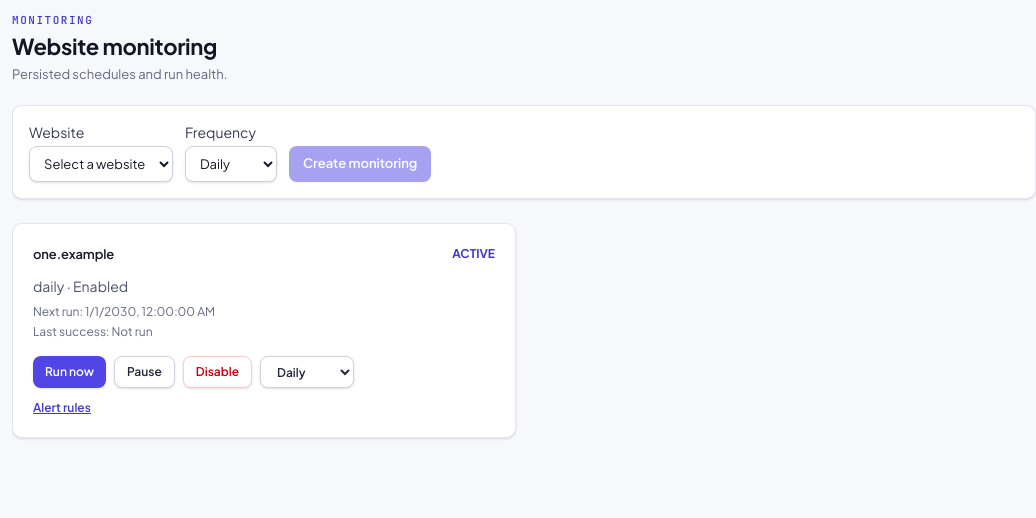
Test case: MonitoringPage › shows a safe message on 403 without dropping the page
Click the button "Run now" at (70, 372), box x1=33 y1=356 x2=106 y2=388
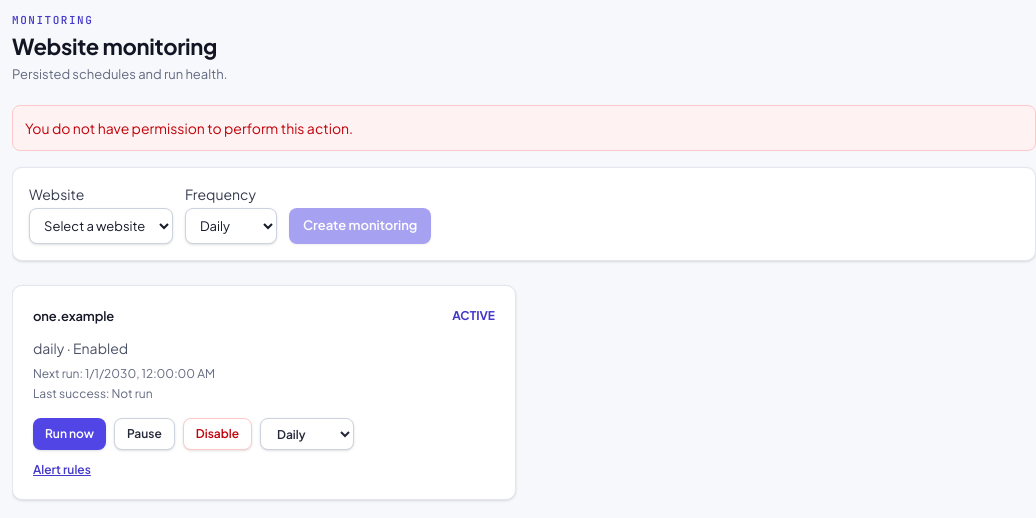
Expected: the button "Run now" is shown, x1=33 y1=418 x2=106 y2=450
Expected: the message reads "You do not have permission to perform this action.", x1=25 y1=119 x2=353 y2=137
